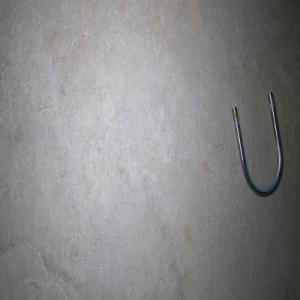ClampPart: (230, 90, 284, 198)
